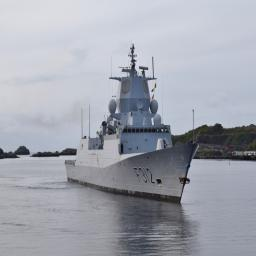Fragata: (65, 36, 204, 208)
